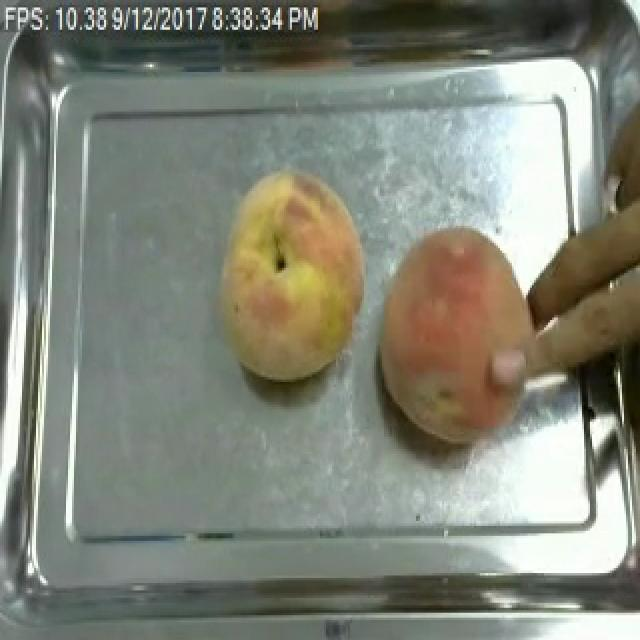Fruit: (366, 216, 544, 451), (206, 162, 378, 390)
